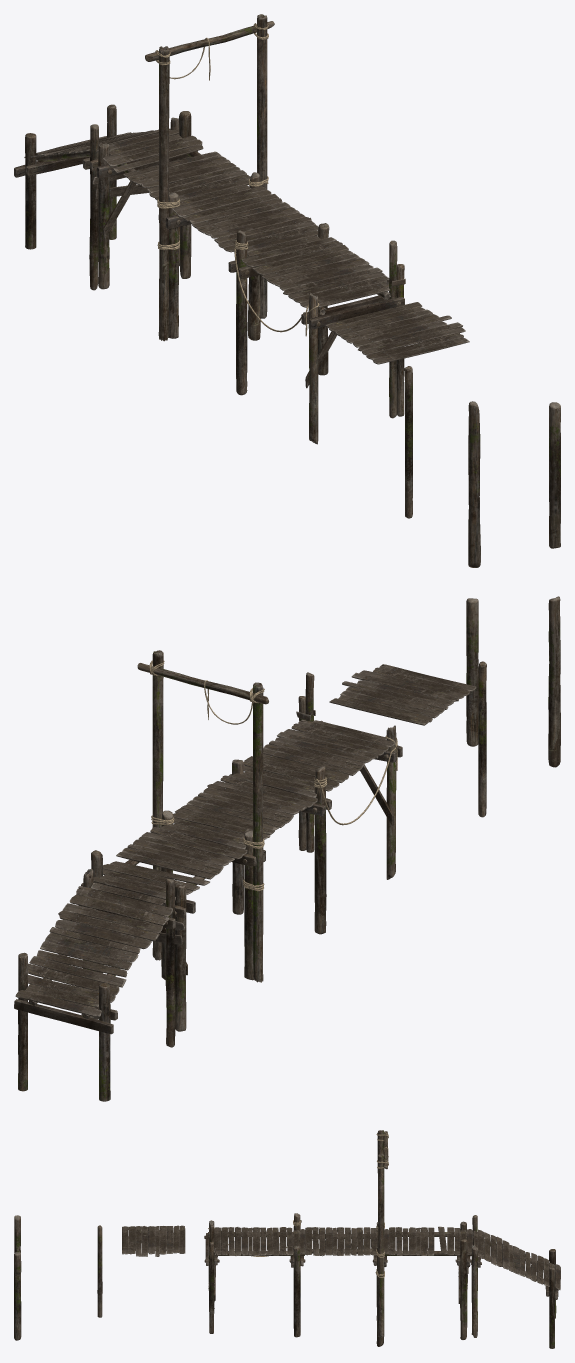
Rendered from pier.glb.
3 renders of one model, top to bottom at view 1: azimuth 30°, elevation 25°; view 2: azimuth 150°, elevation 25°; view 3: azimuth 270°, elevation 25°, orthographic. The views are drawn at different scales.
Parts seen in each view (by area): view 1: modular_wooden_pier_section_01, modular_wooden_pier_section_03, modular_wooden_pier_section_02, modular_wooden_pier_section_05, modular_wooden_pier_section_04, modular_wooden_pier_planks, modular_wooden_pier_poles; view 2: modular_wooden_pier_section_04, modular_wooden_pier_section_01, modular_wooden_pier_section_03, modular_wooden_pier_section_02, modular_wooden_pier_section_05, modular_wooden_pier_poles, modular_wooden_pier_planks; view 3: modular_wooden_pier_section_01, modular_wooden_pier_section_04, modular_wooden_pier_section_03, modular_wooden_pier_section_02, modular_wooden_pier_planks, modular_wooden_pier_section_05, modular_wooden_pier_poles.
Part boxes in pixels (box(x1,y1,x2,y2)): modular_wooden_pier_section_01: box(228, 223, 405, 444); modular_wooden_pier_section_03: box(89, 111, 250, 289); modular_wooden_pier_section_02: box(158, 172, 318, 340); modular_wooden_pier_section_05: box(145, 14, 274, 341); modular_wooden_pier_section_04: box(14, 104, 179, 290); modular_wooden_pier_planks: box(325, 302, 469, 364); modular_wooden_pier_poles: box(404, 366, 560, 567); modular_wooden_pier_section_04: box(14, 868, 175, 1101); modular_wooden_pier_section_01: box(225, 672, 402, 934); modular_wooden_pier_section_03: box(81, 827, 247, 1031); modular_wooden_pier_section_02: box(160, 775, 317, 980); modular_wooden_pier_section_05: box(137, 650, 268, 982); modular_wooden_pier_poles: box(466, 596, 560, 817); modular_wooden_pier_planks: box(329, 664, 476, 725); modular_wooden_pier_section_01: box(204, 1213, 305, 1337); modular_wooden_pier_section_04: box(471, 1215, 560, 1348); modular_wooden_pier_section_03: box(376, 1221, 473, 1339); modular_wooden_pier_section_02: box(292, 1222, 389, 1346); modular_wooden_pier_planks: box(122, 1225, 185, 1256); modular_wooden_pier_section_05: box(375, 1130, 388, 1337); modular_wooden_pier_poles: box(14, 1215, 102, 1340).
Bounding box in the file's own units: 3.1 × 7.52 × 19.03.
Materials: 2 (2 with a texture image).
